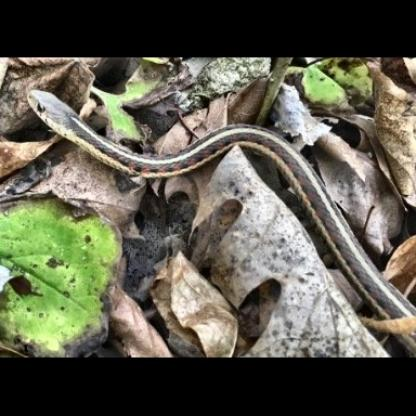Snake: (28, 90, 416, 356)
